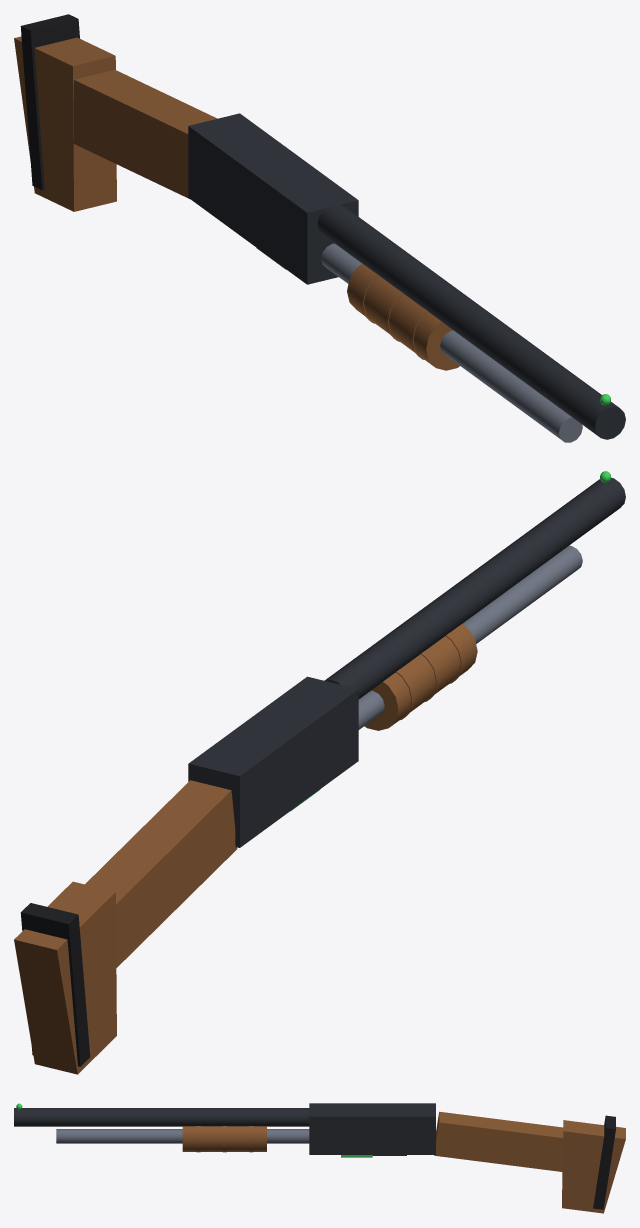
File: PumpShotgun.obj
3 views of the same model, one above another, from view 1: azimuth 30°, elevation 25°; view 2: azimuth 150°, elevation 25°; view 3: azimuth 270°, elevation 25° (orthographic). The views are drawn at different scales.
Parts seen in each view (by area): view 1: Stock, Receiver, Barrel, Tube, PumpGrip, ButtPad; view 2: Stock, Receiver, Barrel, PumpGrip, Tube, ButtPad; view 3: Stock, Receiver, Barrel, Tube, PumpGrip, ButtPad.
Boxes of the visible parts, bbox=[...] form: Stock: bbox=[14, 36, 217, 211]; Receiver: bbox=[188, 113, 358, 284]; Barrel: bbox=[317, 203, 625, 439]; Tube: bbox=[321, 243, 582, 442]; PumpGrip: bbox=[347, 263, 459, 370]; ButtPad: bbox=[20, 14, 79, 190]; Stock: bbox=[14, 780, 237, 1074]; Receiver: bbox=[188, 676, 358, 847]; Barrel: bbox=[324, 477, 625, 699]; PumpGrip: bbox=[364, 624, 477, 730]; Tube: bbox=[358, 545, 582, 729]; ButtPad: bbox=[20, 903, 90, 1066]; Stock: bbox=[434, 1111, 625, 1213]; Receiver: bbox=[309, 1103, 435, 1154]; Barrel: bbox=[14, 1108, 309, 1126]; Tube: bbox=[56, 1129, 309, 1143]; PumpGrip: bbox=[182, 1126, 266, 1152]; ButtPad: bbox=[593, 1115, 615, 1209].
Bounding box in the file's own units: 0.062 × 0.2178 × 1.16.
